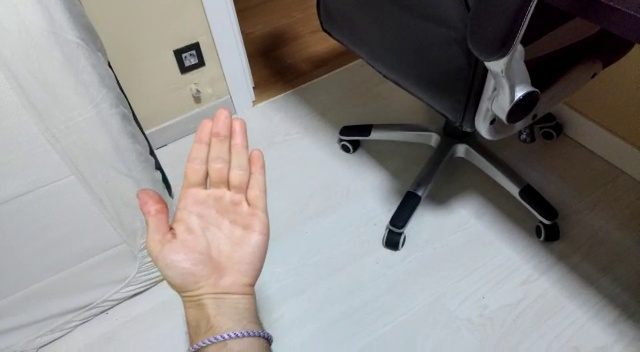Palm: (135, 106, 272, 309)
